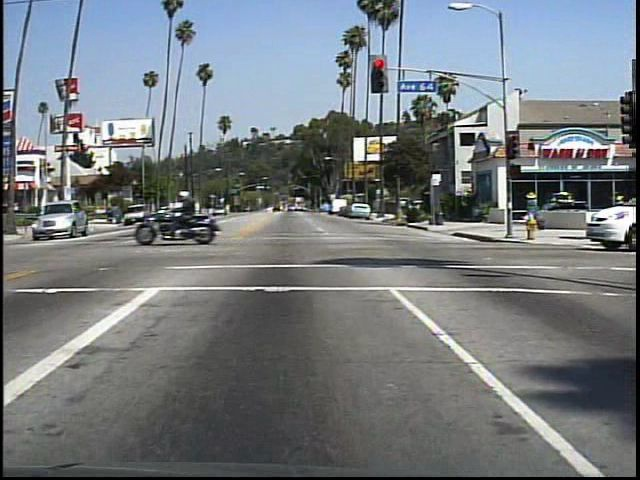person: (177, 185, 215, 244), (520, 186, 546, 217)
